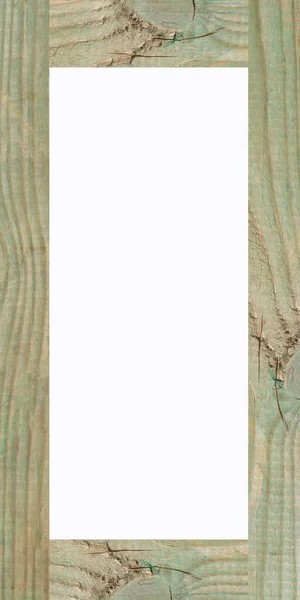page: (52, 71, 247, 538)
